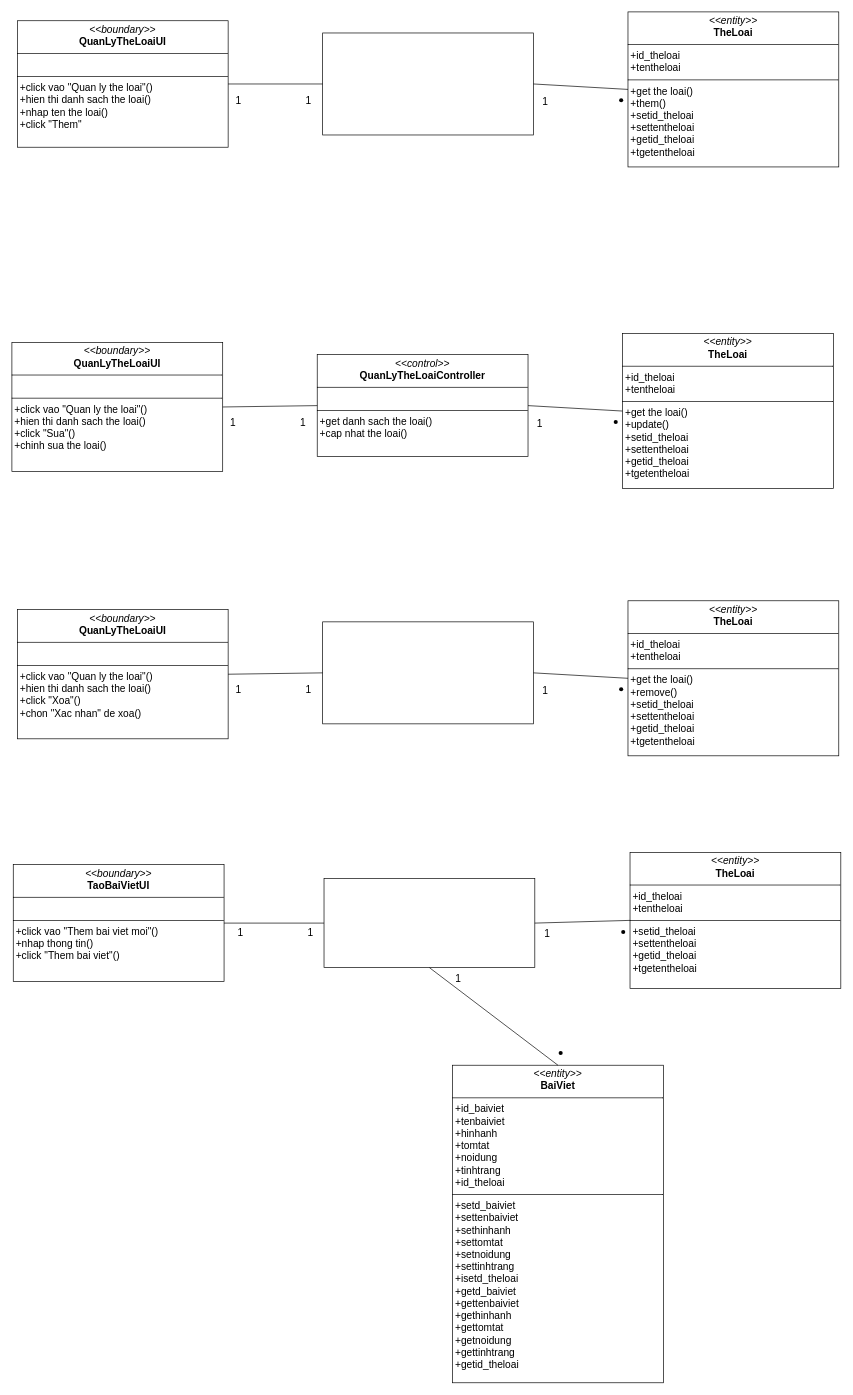
Some shapes in this 853 by 1395 pixel diagram are drawn without their labels. The centre of each missing label's shape, as x and y in pixels:
"<<control>> QuanLyTheLoaiController + get danh sach the loai() +them the loai()" goes at (427,83).
"<<control>> QuanLyTheLoaiController + get danh sach the loai() +xoa the loai()" goes at (427,672).
"<<control>> TaoBaiVietController +update thong tin()" goes at (429,923).
